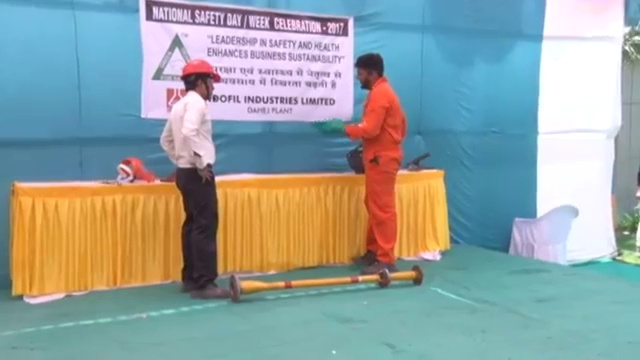helmet: (180, 56, 220, 81)
helmet_off: (355, 53, 385, 90)
helmet_on: (179, 54, 220, 101)
person: (158, 54, 232, 298), (344, 53, 408, 279)
